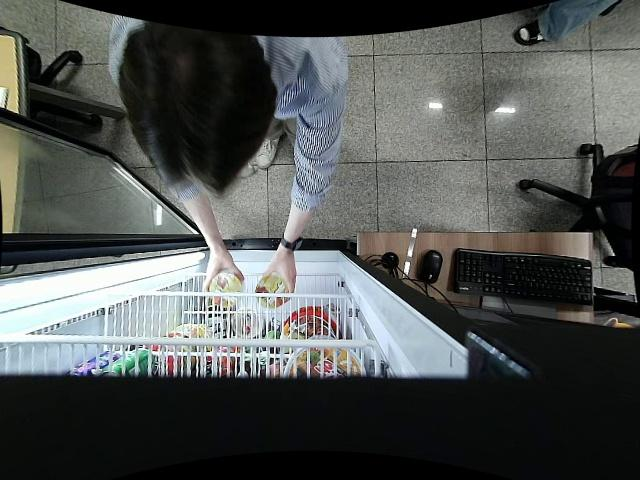00_hand: (197, 253, 243, 293), (259, 251, 297, 292)
04_chapagetti_S: (208, 273, 244, 307), (254, 276, 289, 308)
